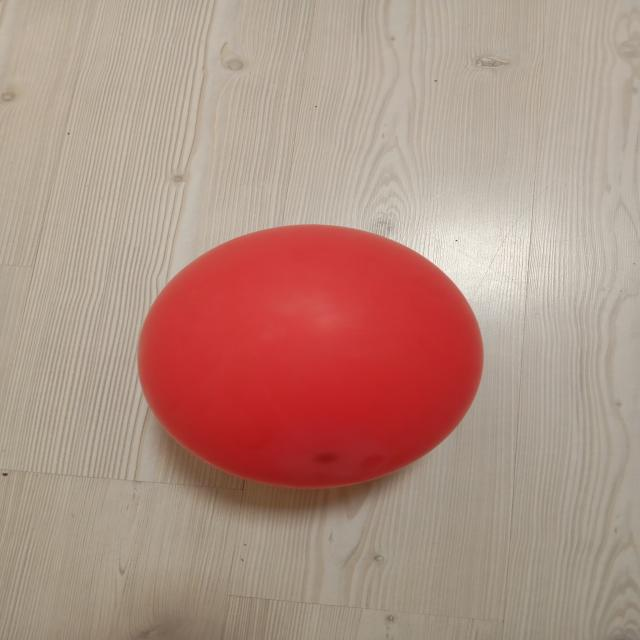balloon: (137, 225, 483, 488)
